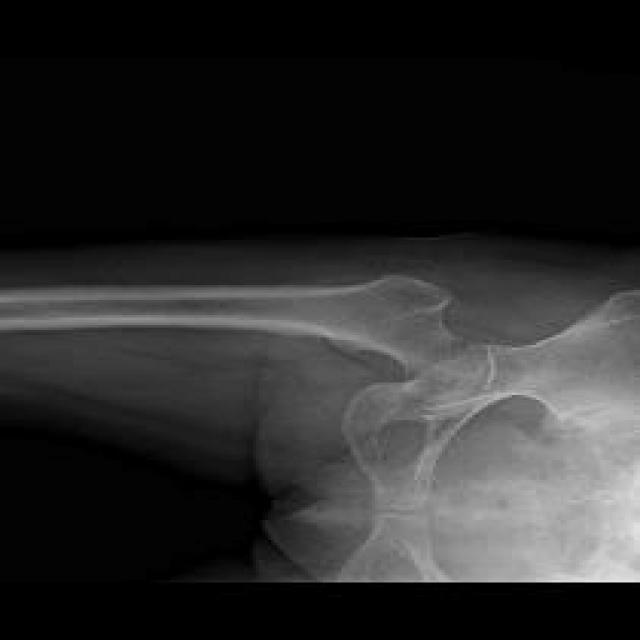normal: (0, 274, 640, 584)
